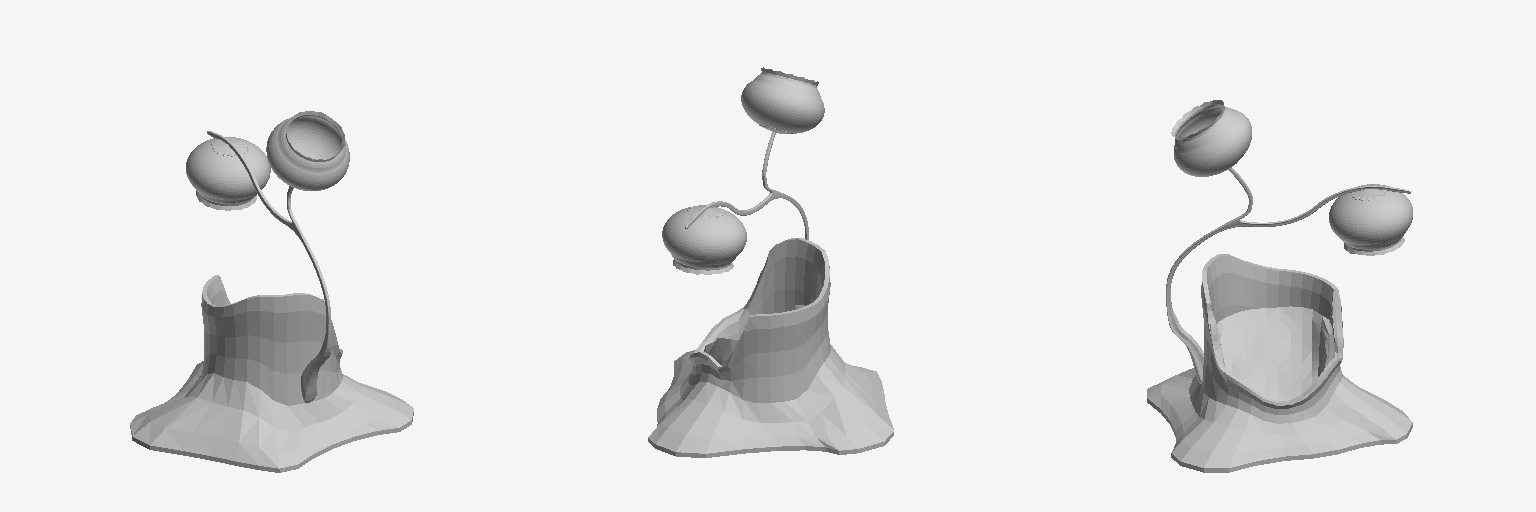
The model's file is lamp 2.obj.obj.
The picture shows the model from 3 angles: view 1: azimuth 30°, elevation 25°; view 2: azimuth 150°, elevation 25°; view 3: azimuth 270°, elevation 25°; orthographic projection.
Parts seen in each view (by area): view 1: cylinder1_sep3, sphere5_extract6, sphere5_copy7, cylinder1_extract4; view 2: cylinder1_sep3, sphere5_copy7, sphere5_extract6, cylinder1_extract4, cylinder1; view 3: cylinder1_sep3, cylinder1, sphere5_extract6, sphere5_copy7, cylinder1_extract4.
Part boxes in pixels (x1,y1,x2,y2): cylinder1_sep3: (130, 275, 413, 472); sphere5_extract6: (266, 111, 349, 190); sphere5_copy7: (186, 137, 270, 210); cylinder1_extract4: (207, 131, 330, 402); cylinder1_sep3: (648, 238, 893, 457); sphere5_copy7: (662, 205, 746, 274); sphere5_extract6: (741, 67, 824, 133); cylinder1_extract4: (685, 132, 808, 239); cylinder1: (704, 305, 804, 365); cylinder1_sep3: (1147, 254, 1412, 472); cylinder1: (1217, 306, 1334, 400); sphere5_extract6: (1171, 100, 1251, 176); sphere5_copy7: (1329, 184, 1412, 255); cylinder1_extract4: (1166, 168, 1411, 383).
Size of the model in its own units: 3.77 by 4.82 by 3.63.